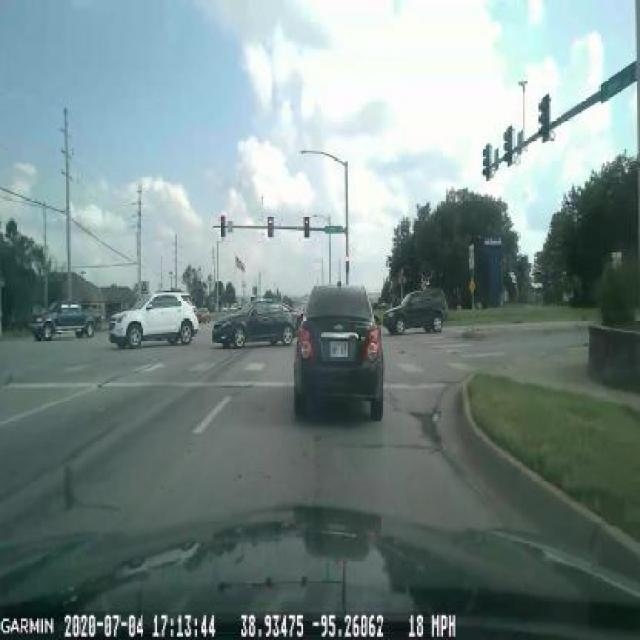Buraco: (406, 406, 446, 454)
